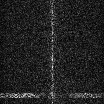wifi: (1, 92, 104, 98)
